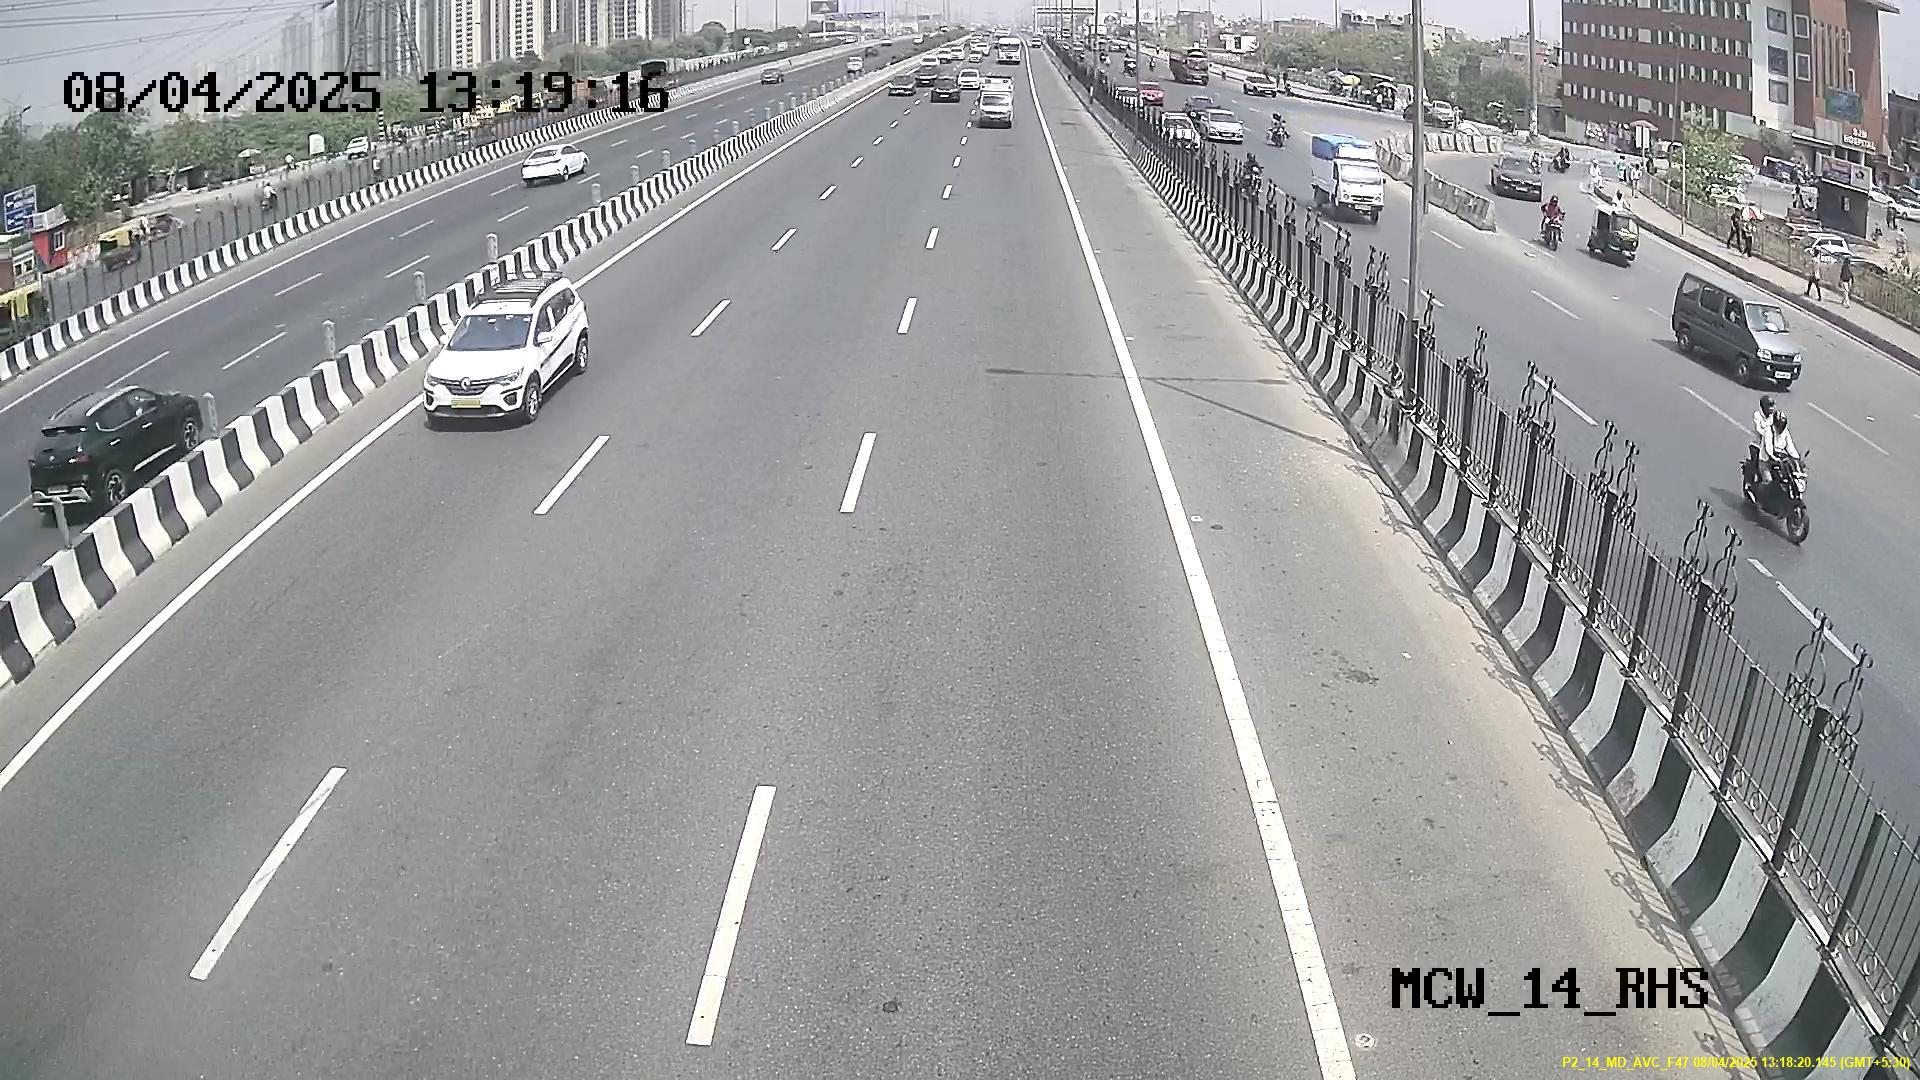car: (419, 284, 559, 431)
